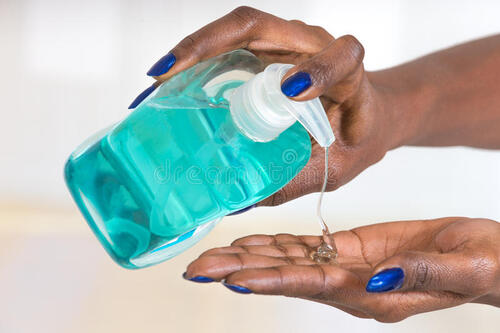sanitizer: (73, 49, 335, 237)
